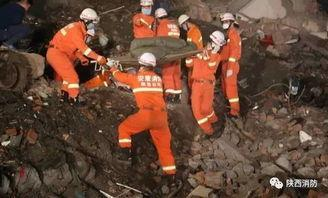Fall-Detected: (91, 46, 175, 175)
